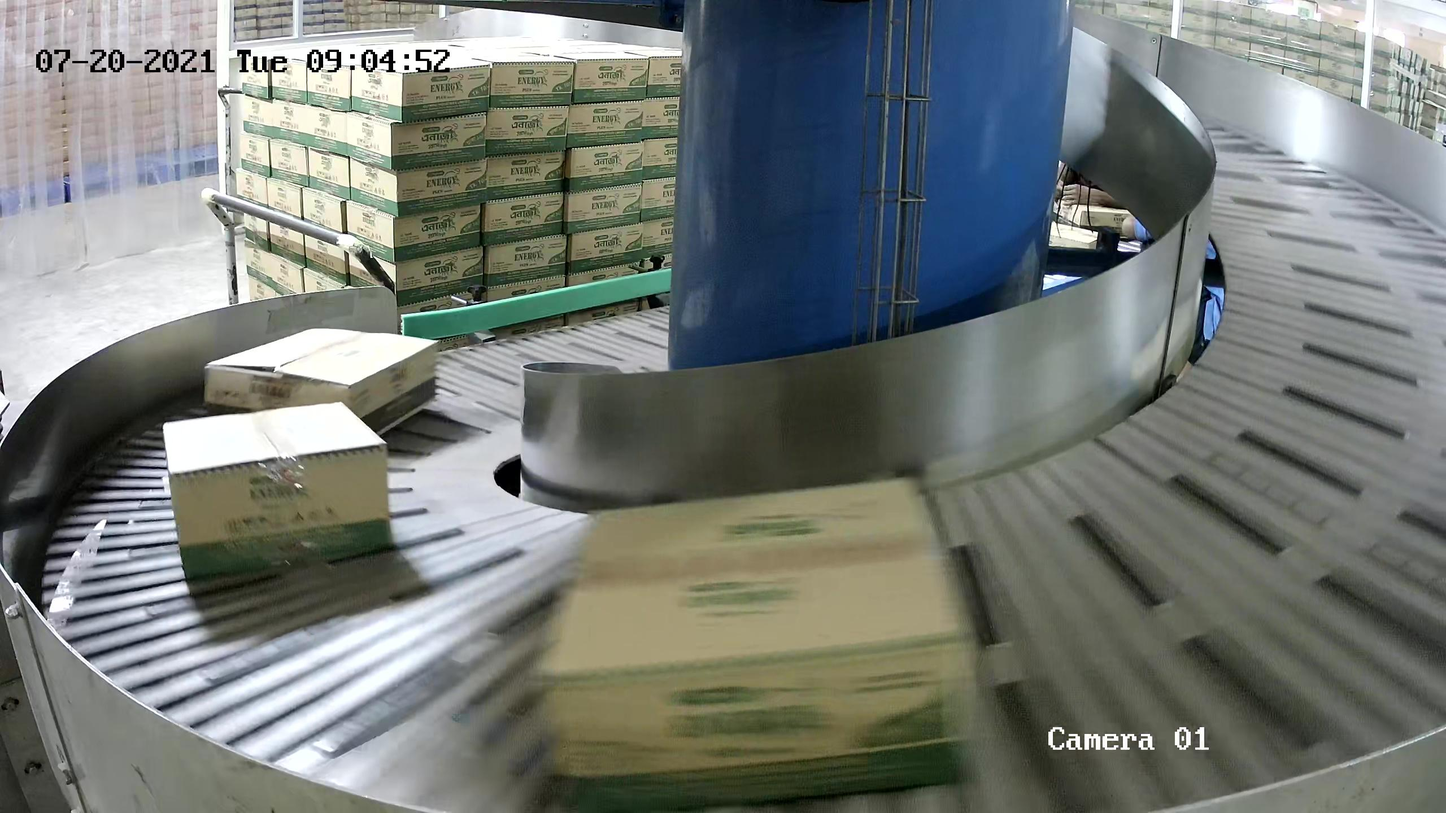Box: (535, 471, 980, 813), (161, 399, 395, 578), (203, 326, 440, 440)
